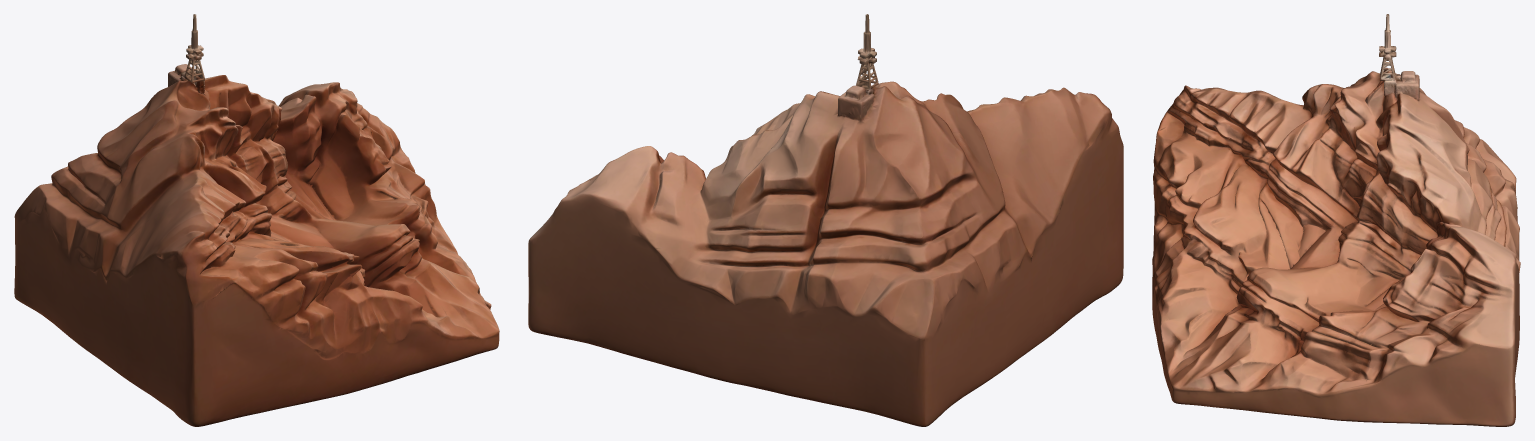
Rendered from saentis.glb.
3 views of the same model, side by side, from view 1: azimuth 30°, elevation 25°; view 2: azimuth 150°, elevation 25°; view 3: azimuth 270°, elevation 25° (orthographic). The views are drawn at different scales.
Parts seen in each view (by area): view 1: tripo_node_e09e7065-d803-4eab-aa87-66bf58f663a8; view 2: tripo_node_e09e7065-d803-4eab-aa87-66bf58f663a8; view 3: tripo_node_e09e7065-d803-4eab-aa87-66bf58f663a8.
Boxes of the visible parts, box(x1,y1,x2,y2) form: tripo_node_e09e7065-d803-4eab-aa87-66bf58f663a8: box(14, 14, 499, 426); tripo_node_e09e7065-d803-4eab-aa87-66bf58f663a8: box(528, 14, 1123, 426); tripo_node_e09e7065-d803-4eab-aa87-66bf58f663a8: box(1152, 14, 1520, 426).
Bounding box in the file's own units: 0.9804 × 0.7712 × 0.8691.
Materials: 1 (1 with a texture image).
